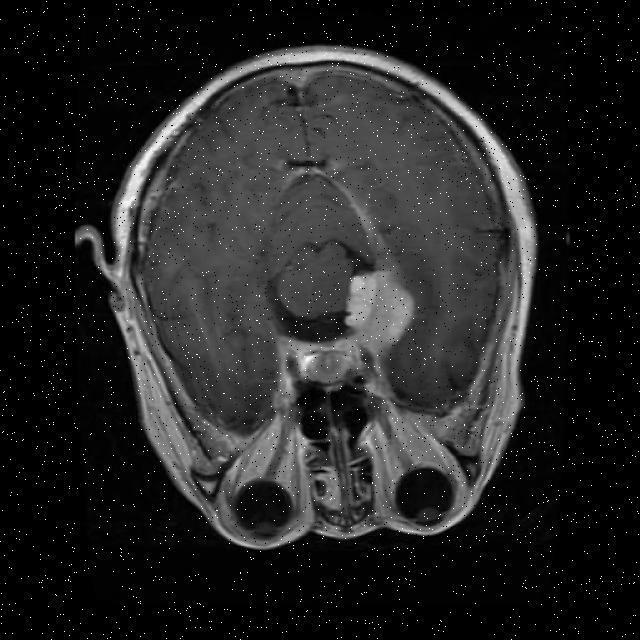Meningioma: (346, 270, 415, 351)
